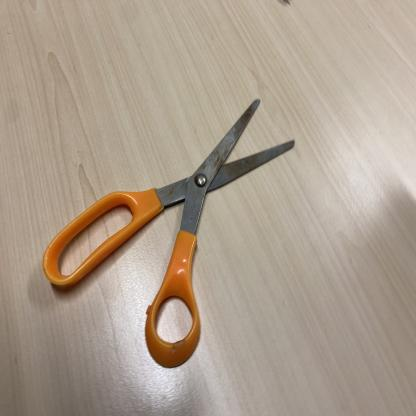scissors: (44, 98, 294, 370)
